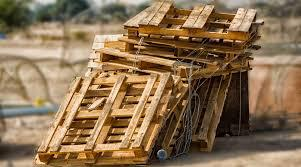wood: (36, 73, 181, 164), (91, 8, 260, 72)
